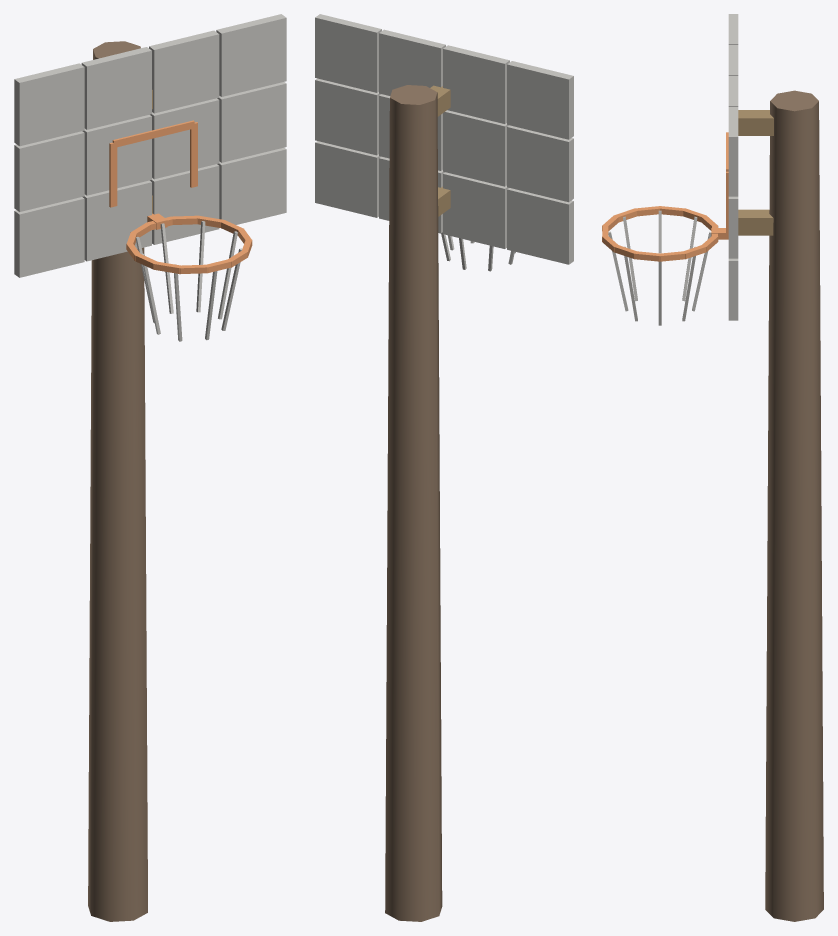
File: build_hoop.glb
3 views of the same model, side by side, from view 1: azimuth 30°, elevation 25°; view 2: azimuth 150°, elevation 25°; view 3: azimuth 270°, elevation 25° (orthographic). The views are drawn at different scales.
Parts seen in each view (by area): view 1: Baked; view 2: Baked; view 3: Baked.
Part boxes in pixels (x1=…): Baked: x1=14, y1=14, x2=286, y2=921; Baked: x1=315, y1=14, x2=573, y2=921; Baked: x1=602, y1=14, x2=823, y2=921.
Size of the model in its own units: 1.19 by 3.77 by 0.9077.
